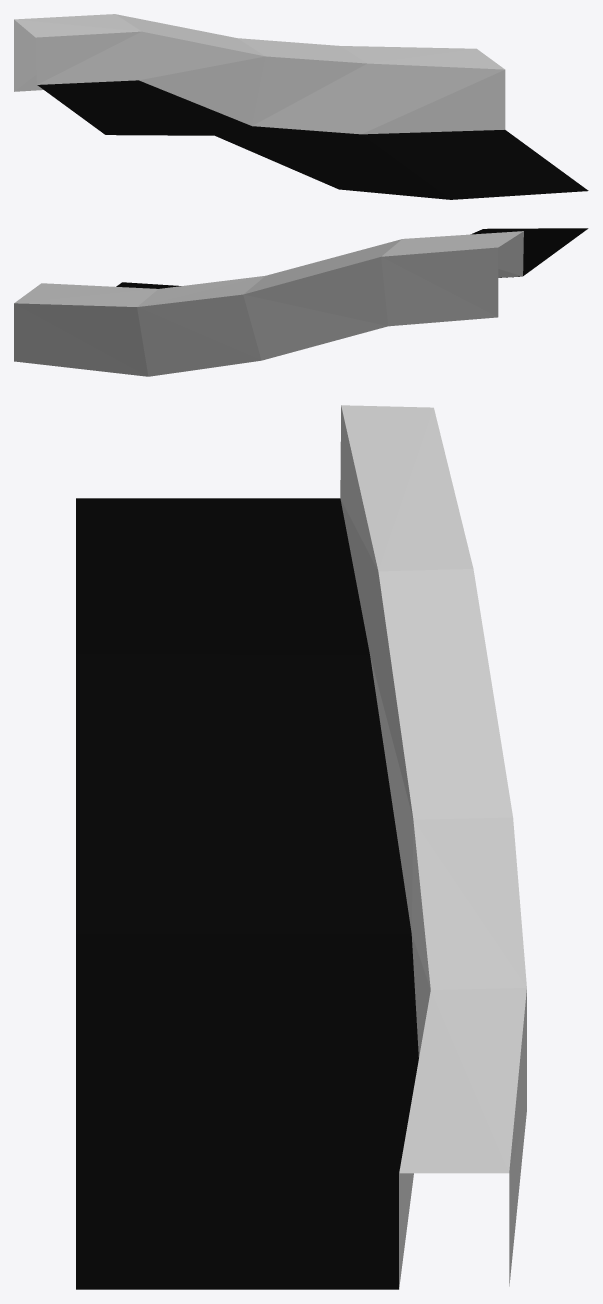
Rendered from palace_bridge_straight_collision_07.fbx.
The picture shows the model from 3 angles, top to bottom: view 1: azimuth 30°, elevation 25°; view 2: azimuth 150°, elevation 25°; view 3: azimuth 270°, elevation 25°; orthographic projection. The views are drawn at different scales.
Visible parts, largest first — view 1: palace_bridge_straight_collision_07-0; view 2: palace_bridge_straight_collision_07-0; view 3: palace_bridge_straight_collision_07-0.
Part boxes in pixels (x1=…): palace_bridge_straight_collision_07-0: x1=14, y1=14, x2=588, y2=199; palace_bridge_straight_collision_07-0: x1=14, y1=228, x2=588, y2=376; palace_bridge_straight_collision_07-0: x1=76, y1=405, x2=526, y2=1289.
Size of the model in its own units: 8.02 by 3.5 by 3.35.
